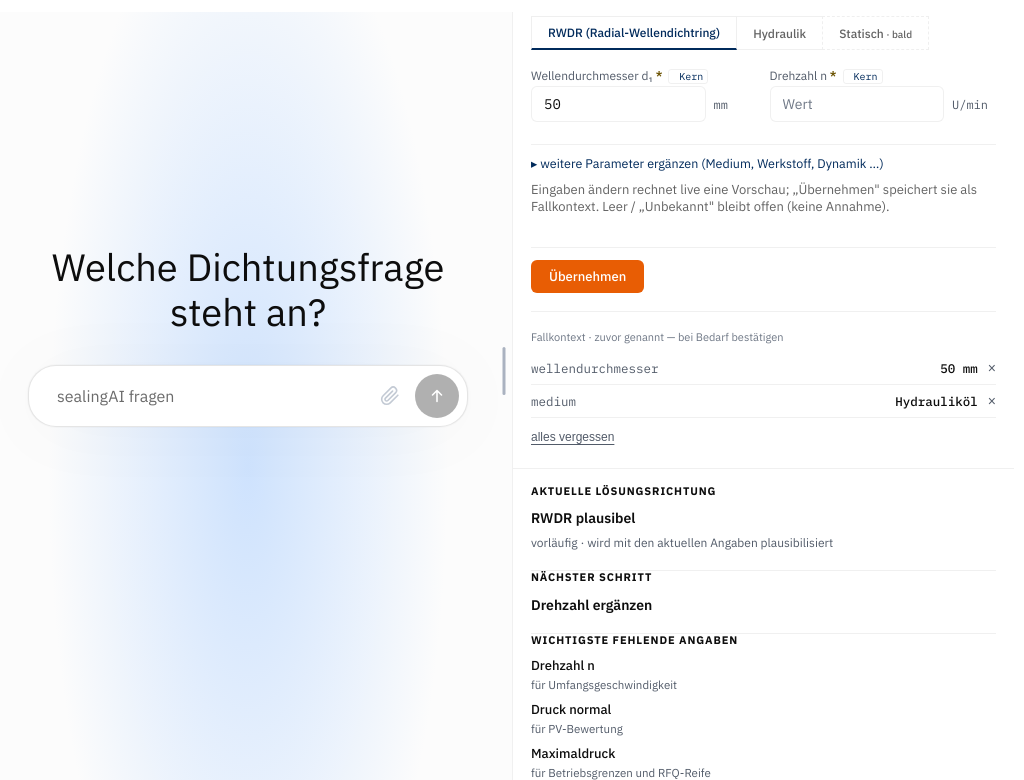
it: cockpit internals: parameter/readout matrix › lets the backend controller replace the legacy field order in chat and cockpit
In the text box with test id "composer-input": (207, 396) x1=49 y1=375 x2=365 y2=417, type "RWDR prüfen"
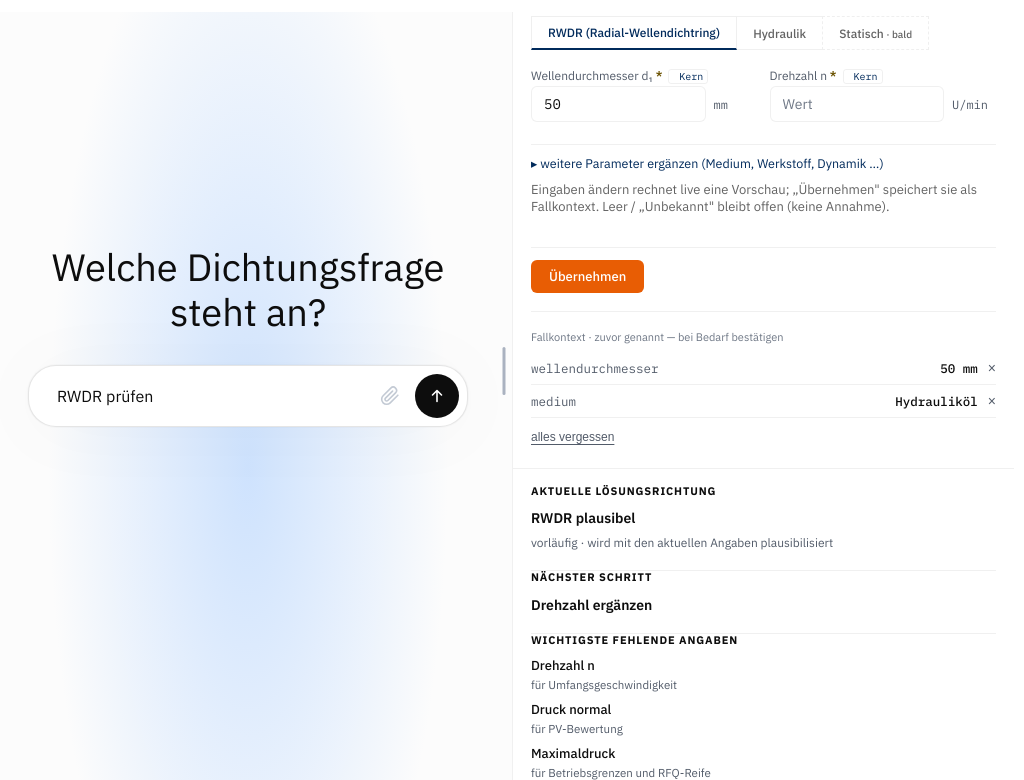
Click the button with test id "composer-send": (437, 396) x1=415 y1=374 x2=459 y2=418
(page scrolled)
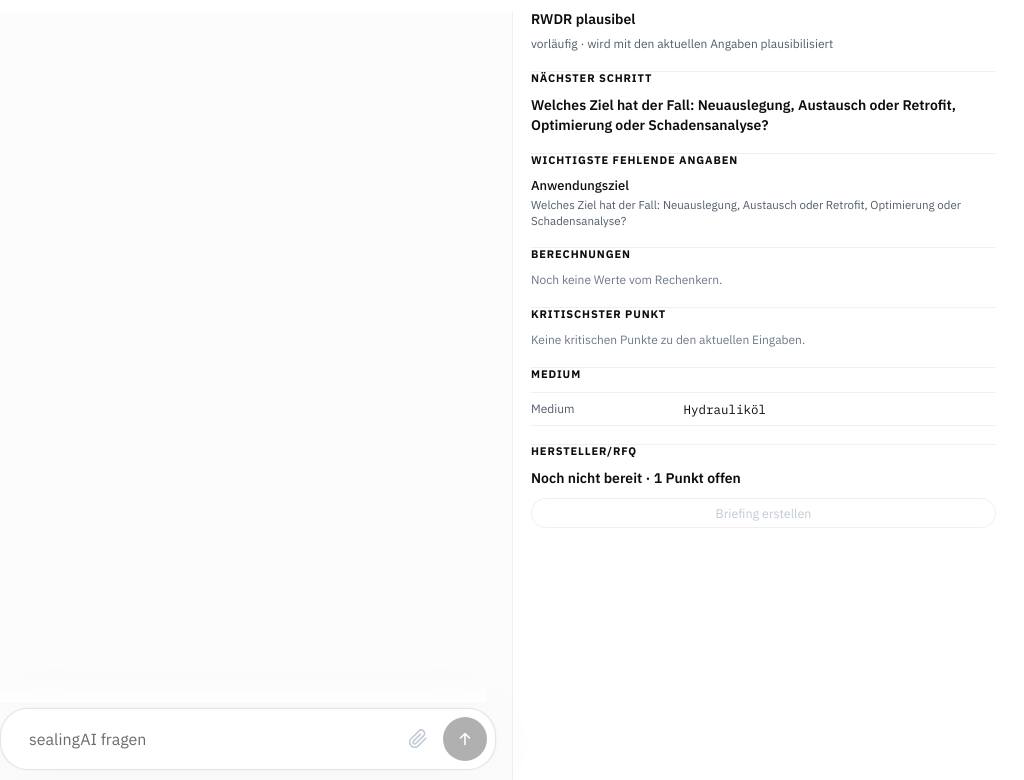
Expected: the element with test id "cockpit-missing" does not show "Drehzahl n", x1=531 y1=154 x2=996 y2=248
Expected: the element with test id "cockpit-next-step" shows "Welches Ziel hat der Fall: Neuauslegung, Austausch oder Retrofit, Optimierung oder Schadensanalyse?", x1=531 y1=96 x2=956 y2=134
Expected: the element with test id "cockpit-missing" shows "Anwendungsziel", x1=531 y1=177 x2=629 y2=194
